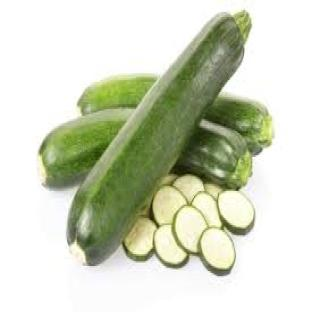Zucchini: (67, 14, 243, 264), (39, 110, 133, 187), (175, 120, 251, 189), (205, 94, 273, 155), (78, 76, 157, 114), (199, 227, 235, 274), (218, 190, 255, 235), (173, 207, 207, 254), (154, 226, 189, 267), (123, 217, 156, 260), (153, 186, 187, 225), (192, 191, 222, 228), (173, 174, 204, 202), (205, 183, 223, 199), (160, 174, 178, 185)
